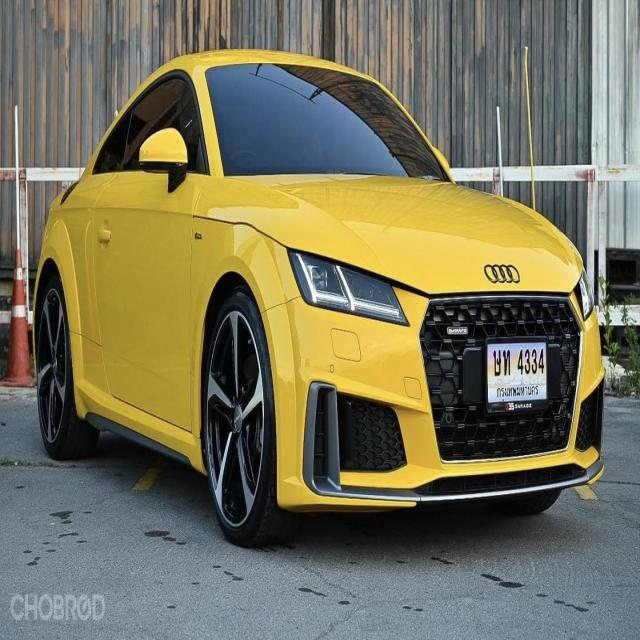license_plate: (486, 338, 551, 408)
